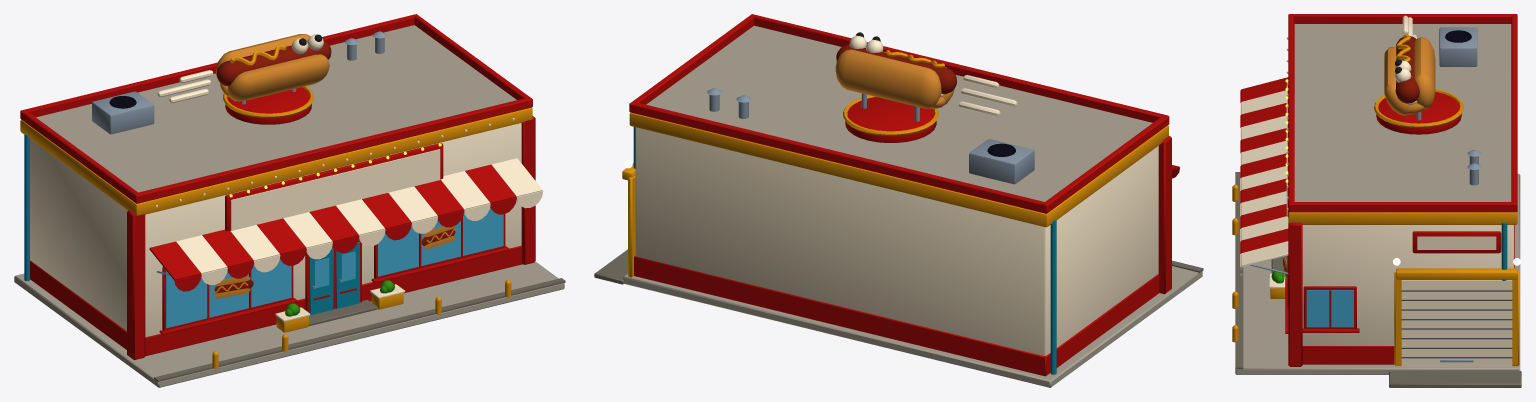
The model's file is DashShop.fbx.
3 views of the same model, side by side, from view 1: azimuth 30°, elevation 25°; view 2: azimuth 150°, elevation 25°; view 3: azimuth 270°, elevation 25° (orthographic). The views are drawn at different scales.
Visible parts, largest first — view 1: DashShop; view 2: DashShop; view 3: DashShop.
Part boxes in pixels (x1,y1,x2,y2): DashShop: [14, 14, 565, 387]; DashShop: [594, 14, 1203, 387]; DashShop: [1232, 14, 1521, 387].
Size of the model in its own units: 31.12 by 16.02 by 18.3.
